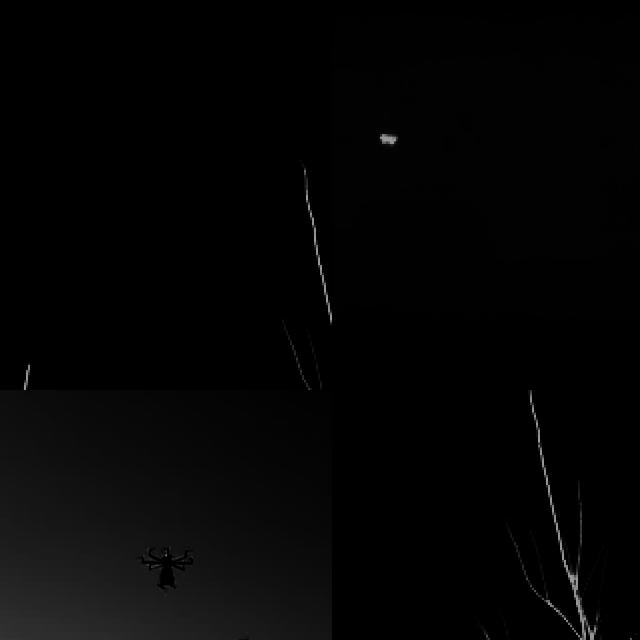0: (79, 318, 105, 354), (332, 457, 341, 490)
1: (368, 128, 406, 160)
drone: (138, 546, 194, 594)
